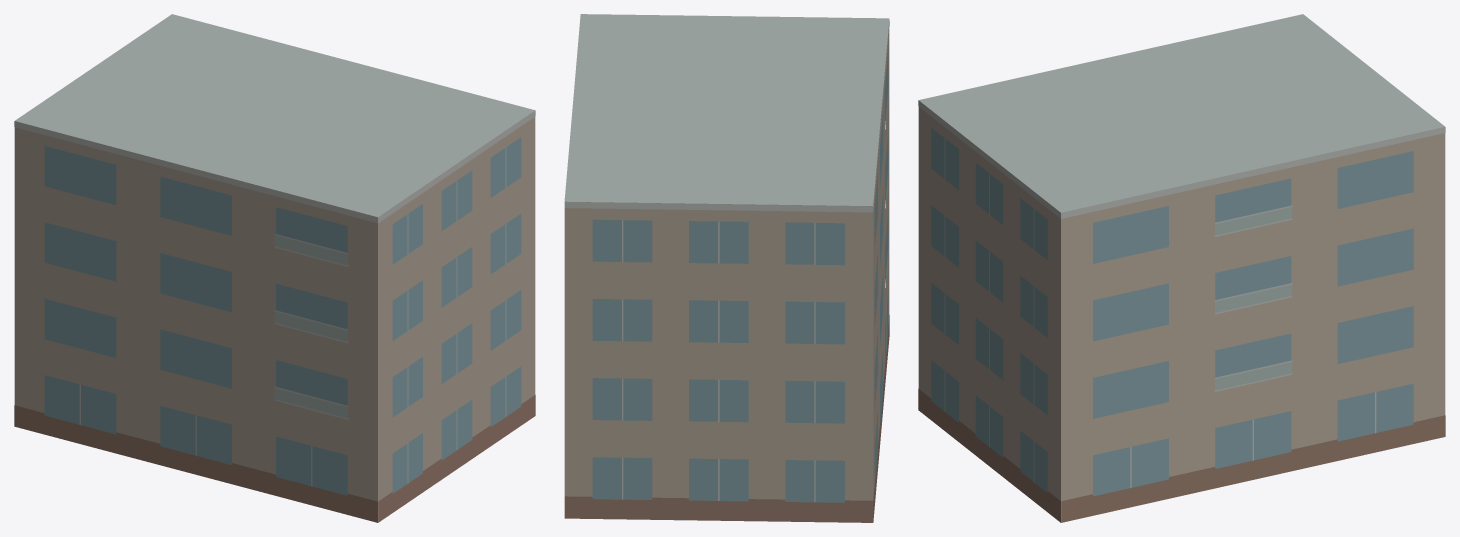
The model's file is survey-upis-32947932.glb.
3 renders of one model, left to right at view 1: azimuth 30°, elevation 25°; view 2: azimuth 150°, elevation 25°; view 3: azimuth 270°, elevation 25°, orthographic. The views are drawn at different scales.
Visible parts, largest first — view 1: survey-upis-32947932.tmp; view 2: survey-upis-32947932.tmp; view 3: survey-upis-32947932.tmp.
Part boxes in pixels (<box>): survey-upis-32947932.tmp: <box>14,14,535,522</box>; survey-upis-32947932.tmp: <box>564,14,889,522</box>; survey-upis-32947932.tmp: <box>918,14,1445,522</box>.
Size of the model in its own units: 16.79 by 12.2 by 18.8.
